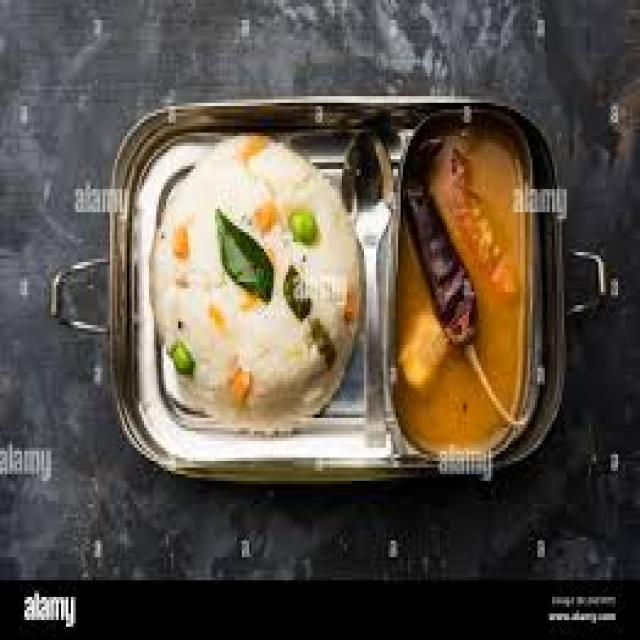UPMA: (147, 136, 359, 424)
